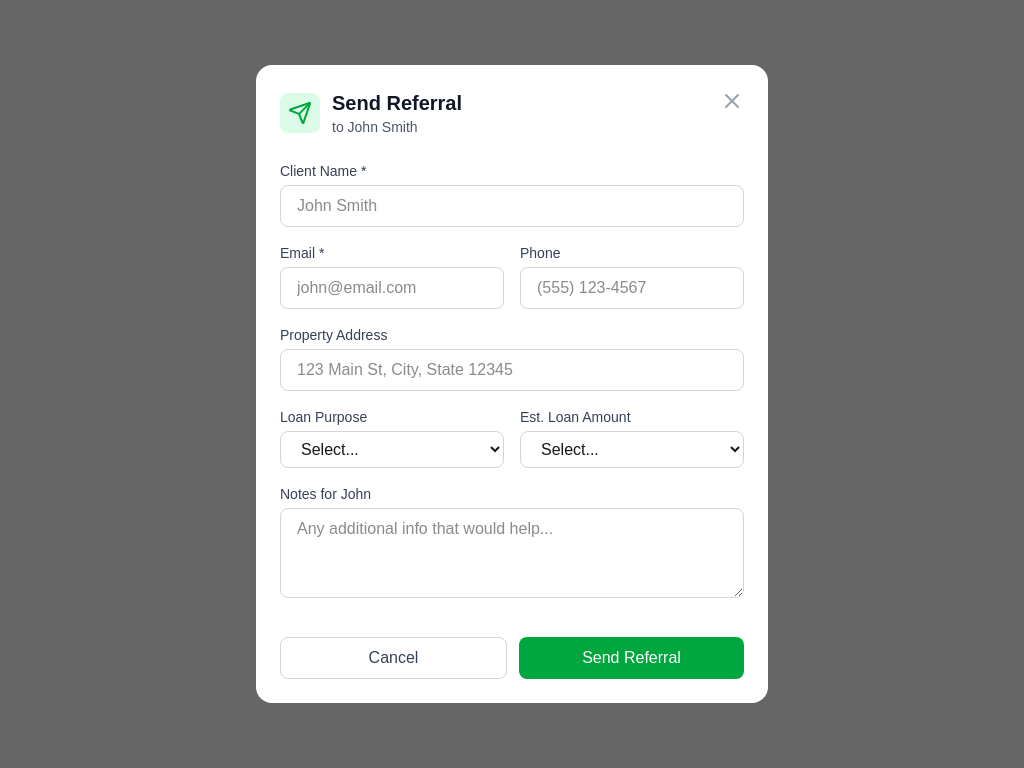
it: ReferralModal › Form submission › shows loading state during submission
Type "Client Name" into the field with placeholder "John Smith". click: (512, 206)
box: [280,185,744,227]
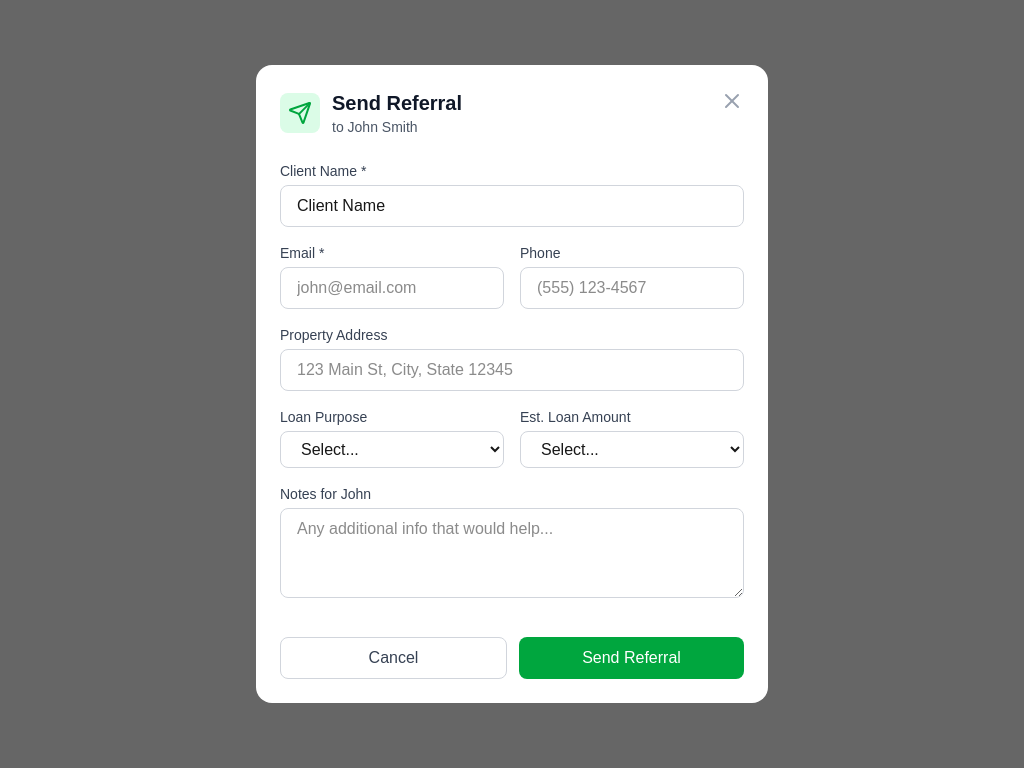
Type "client@example.com" into the field with placeholder "john@email.com". click: (392, 288)
box: [280,267,504,309]
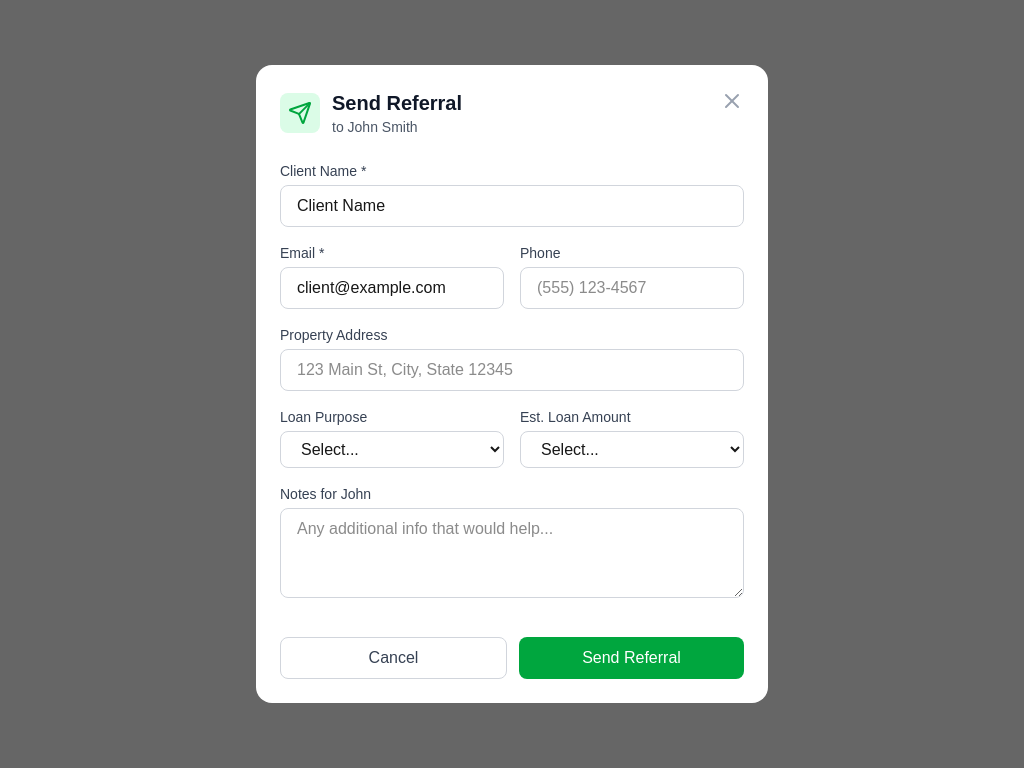
Click the button "Send Referral". click: (632, 658)
box: [519,637,744,679]
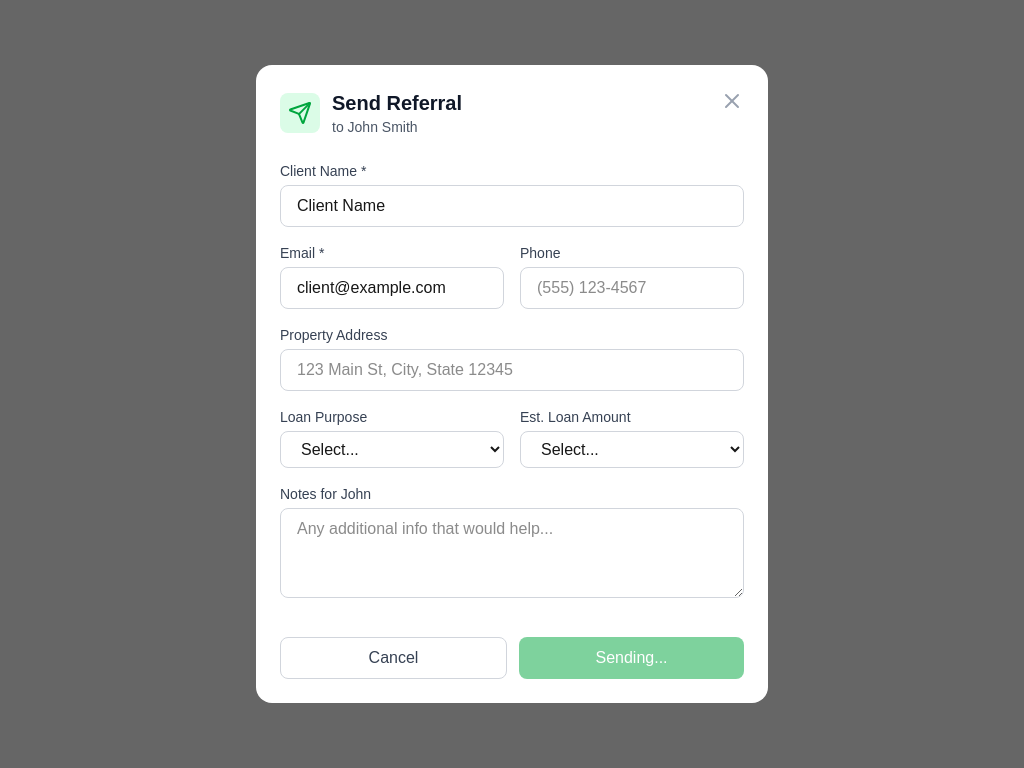
Check: the button "Sending..." is shown, box [519,637,744,679]
